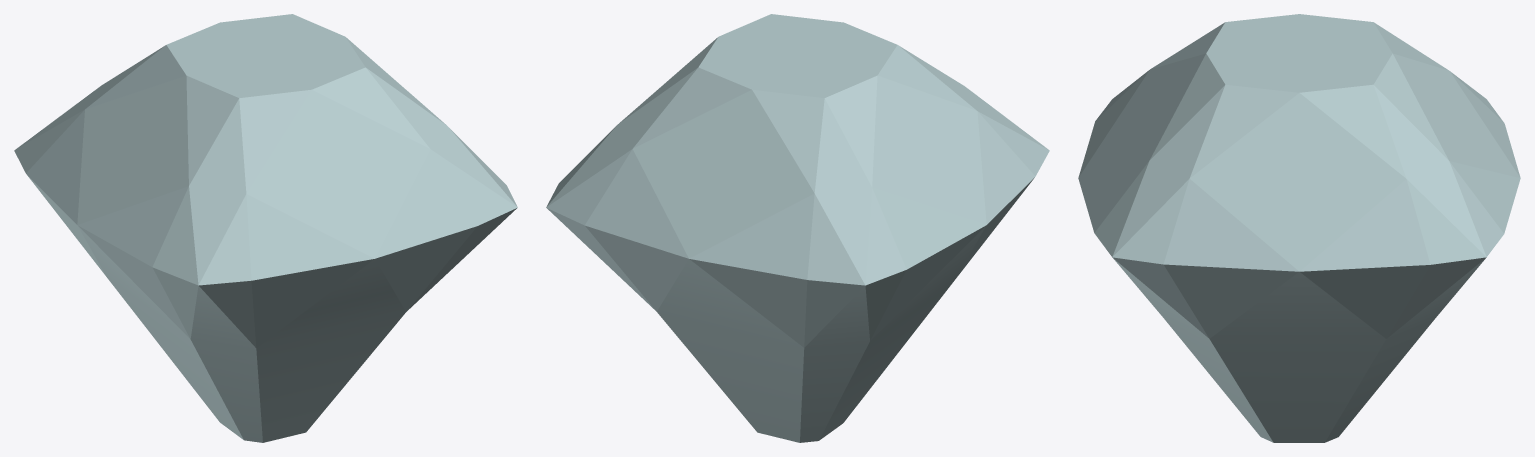
The model's file is stone_oldMine_cut.fbx.
The picture shows the model from 3 angles, left to right: view 1: azimuth 30°, elevation 25°; view 2: azimuth 150°, elevation 25°; view 3: azimuth 270°, elevation 25°; orthographic projection.
Visible parts, largest first — view 1: stone_oldMine_cut; view 2: stone_oldMine_cut; view 3: stone_oldMine_cut.
Part boxes in pixels (x1=…): stone_oldMine_cut: x1=14, y1=14, x2=517, y2=442; stone_oldMine_cut: x1=546, y1=14, x2=1049, y2=442; stone_oldMine_cut: x1=1078, y1=14, x2=1520, y2=442.
Size of the model in its own units: 0.9075 by 0.8446 by 0.9075.
